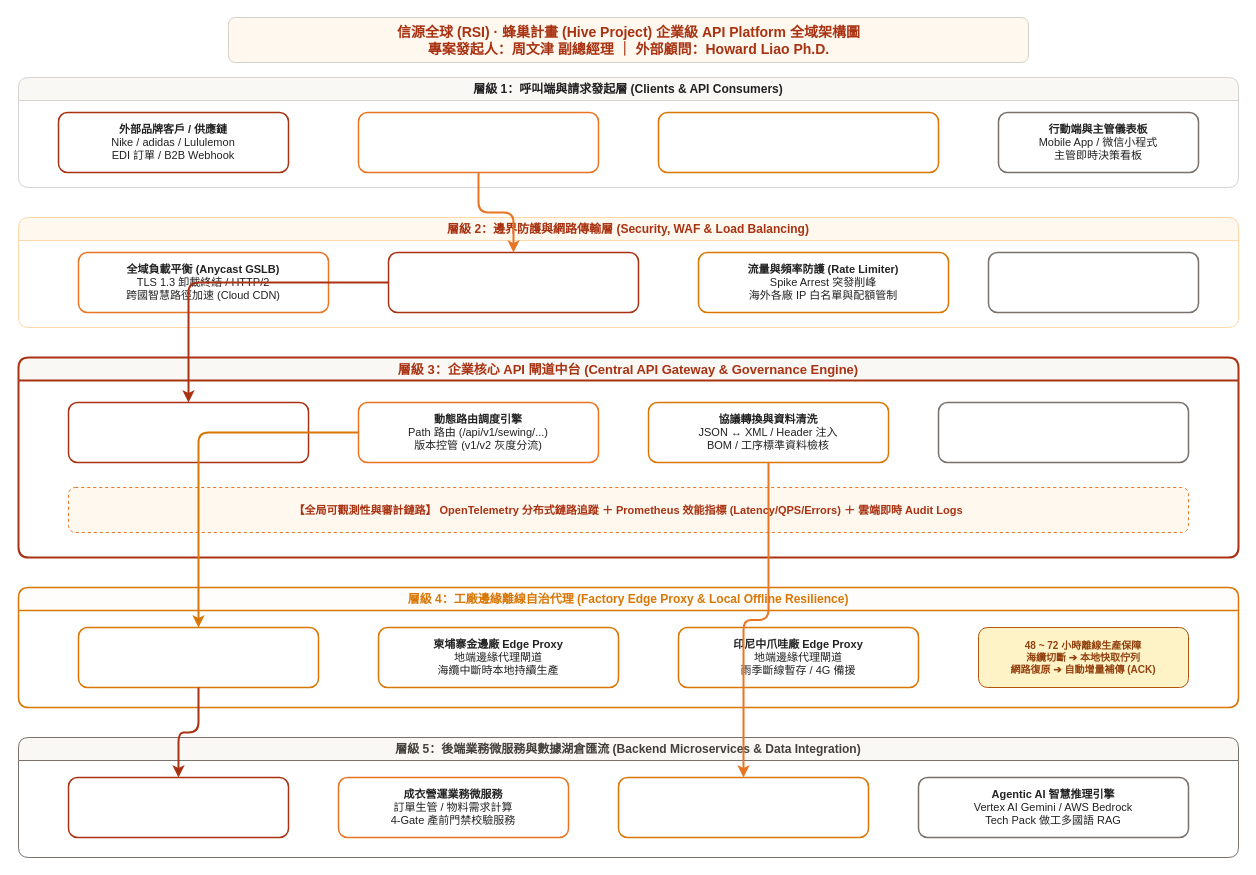
Some shapes in this 1256 by 875 pixel diagram are drawn without their labels. Here are the shapes that lost their labels. From the top down, the centre of each, then its label:
point 478,142: 台北營運總部核心業務 ERP 系統 / 供應鏈採購 聯銓 BI 報表平台
point 798,142: 海外三廠車間 MES / OT 越南隆安 / 柬埔寨金邊 / 印尼中爪哇 成衣車縫計件 / 吊掛 RFID / 自動裁床
point 513,282: Web 應用防火牆 (WAF) Cloud Armor / AWS WAF OWASP Top 10 防護 / 防 SQL 注入
point 1093,282: 安全通道 (Secure Corridors) Site-to-Site IPSec VPN Dedicated Cloud Interconnect
point 188,432: 身份認證與鑑權中心 OAuth2 / JWT Token 簽名驗證 API Key 管理 / RBAC 權限
point 1063,432: 高效快取服務層 Redis / Gateway Memory Cache 熱門款式基本資料亞秒回應
point 198,657: 越南隆安旗艦廠 Edge Proxy 地端 Kong OSS / Envoy SQLite 離線快取佇列
point 178,807: MS SQL 數據串流整合 Datastream / AWS DMS CDC 即時異動擷取通道
point 743,807: 核心數據湖倉中心 (SSOT) Google BigQuery / S3 Iceberg 跨廠對帳庫 / 聯銓 BI 取數
